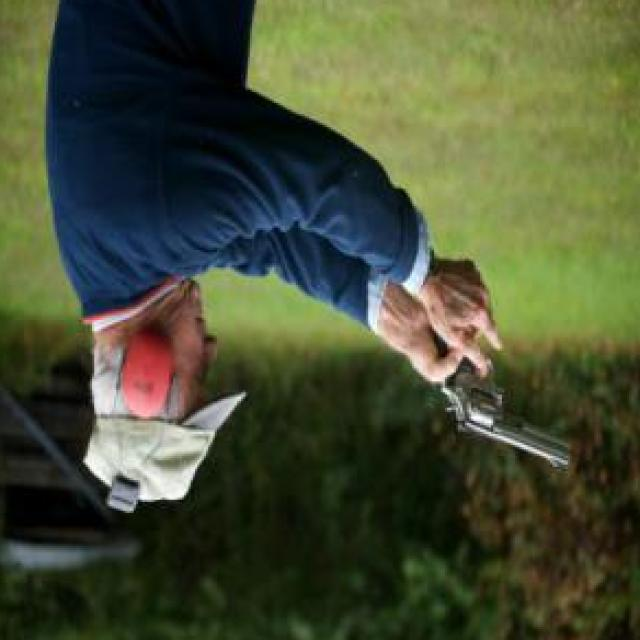pistol: (420, 244, 574, 480)
